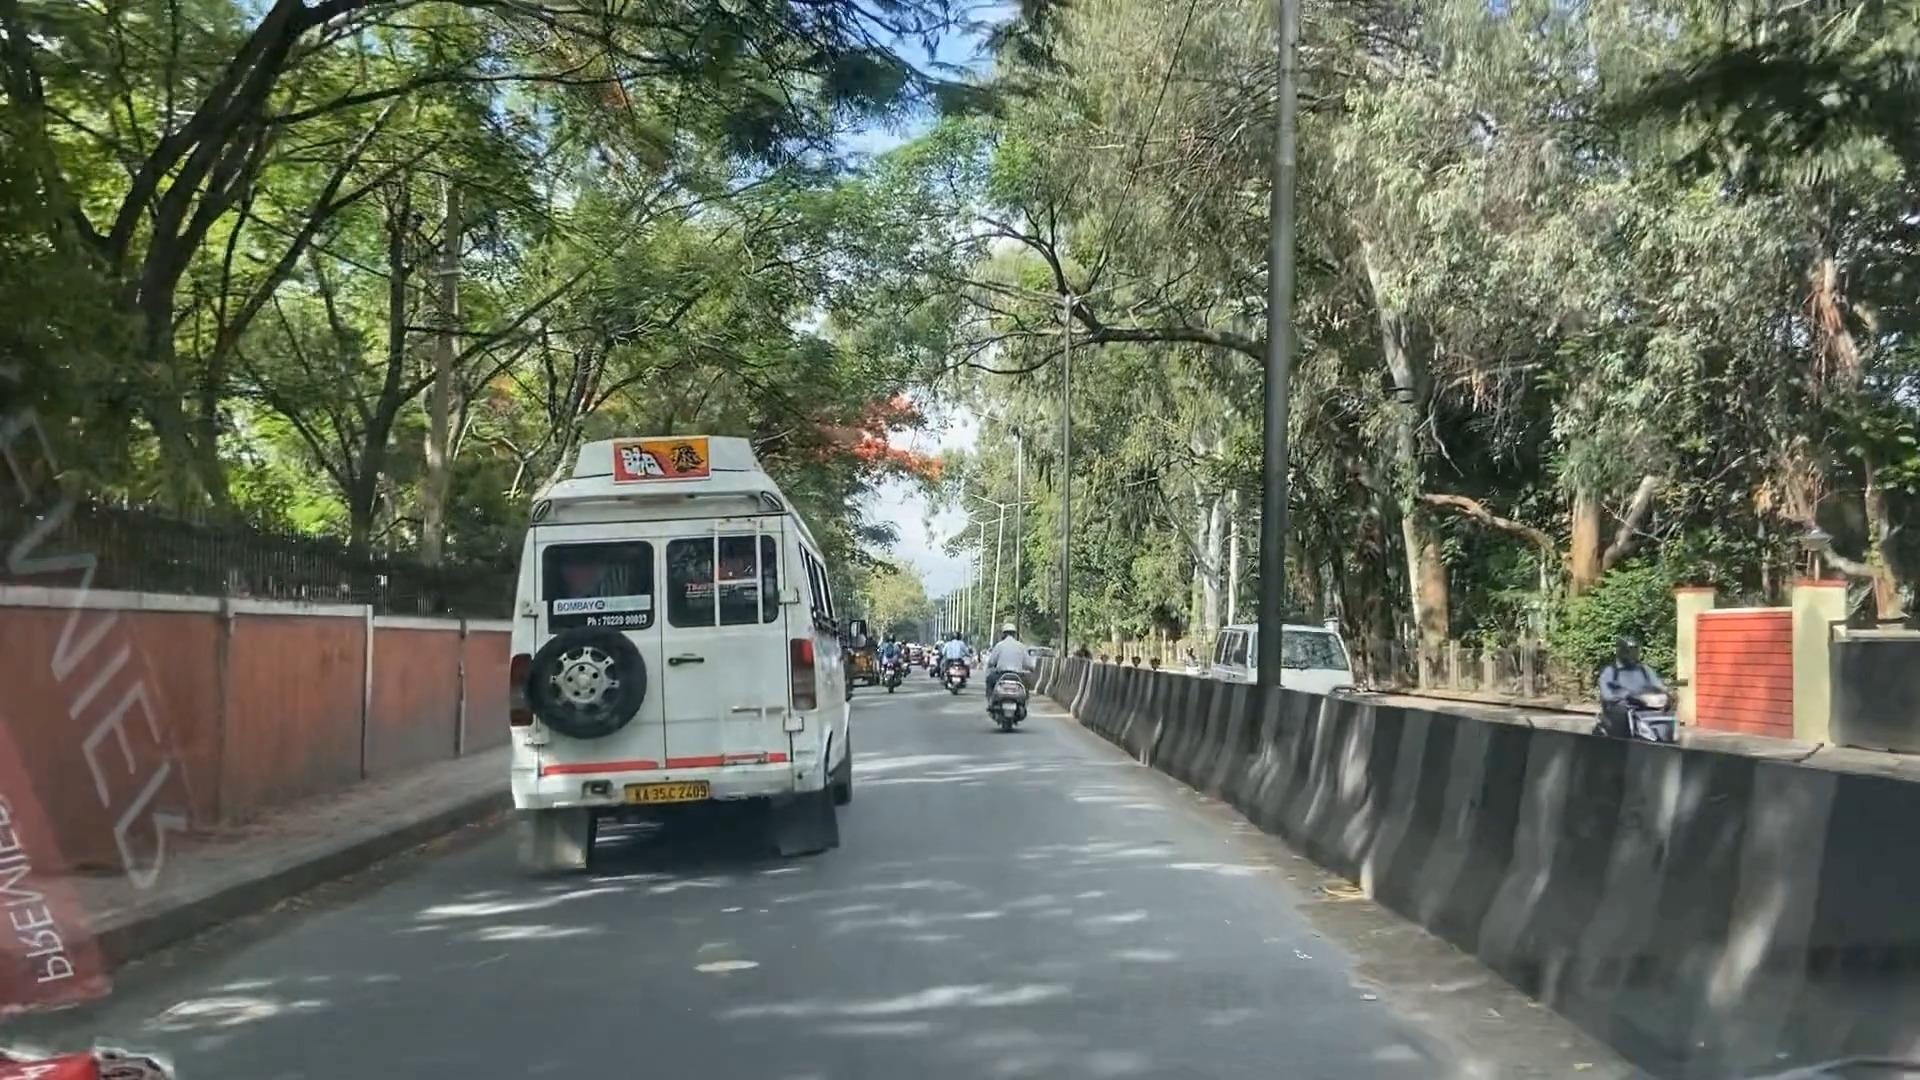HMV: (520, 440, 819, 897)
LMV: (988, 630, 1023, 724), (940, 632, 968, 694)
